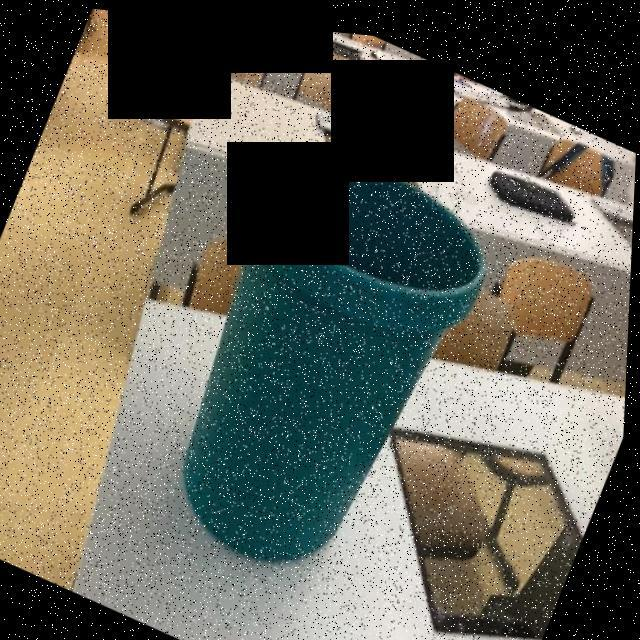bin: (93, 65, 540, 640)
